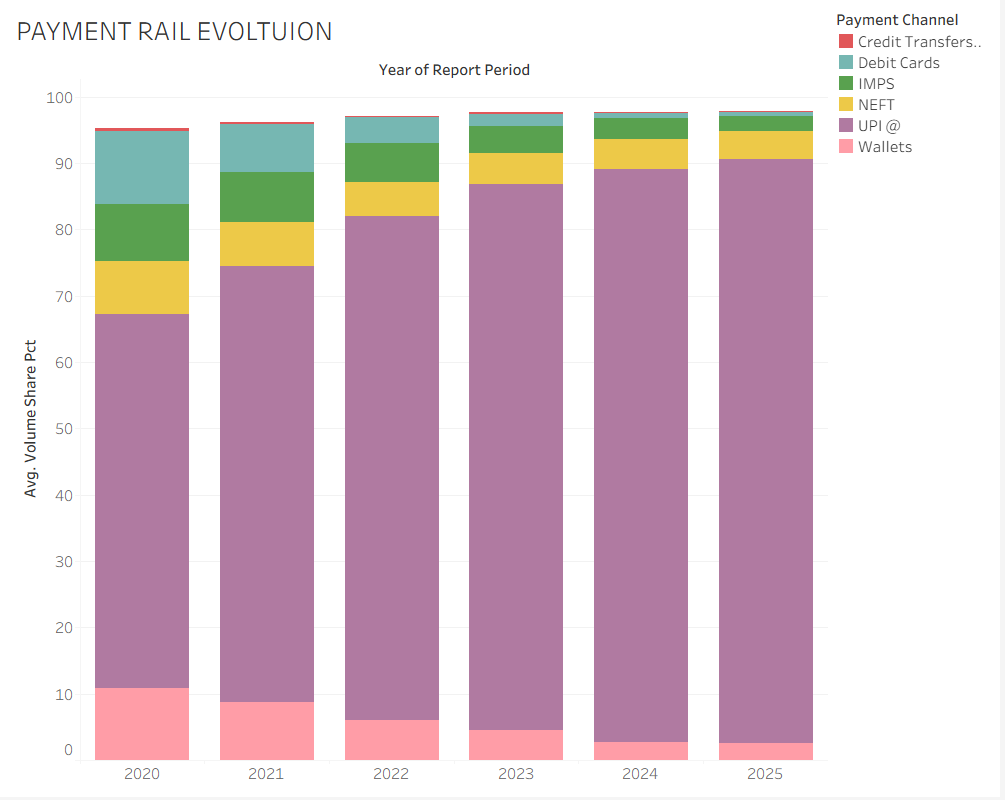

What the dashboard file says about the page in this screenshot:
{"tool":"tableau","page":{"name":"Dashboard 2","canvas":[1000,800],"ordinal":1},"visuals":[{"type":"worksheet","title":"PAYMENT RAIL EVOLTUION","mark":"Bar","rows":["VOLUME_SHARE_PCT"],"cols":["REPORT_PERIOD"],"box":[8,8,824,784]},{"type":"legend","title":"PAYMENT RAIL EVOLTUION","param":"[federated.0bd6xco0eevllb13ovbub09bxn5s].[none:PAYMENT_CHANNEL:nk]","box":[832,8,160,177]}]}

Visuals, with their boxes in screenshot pixels (x1, y1, x2, y2), scaled from the page's 1000x800 canvas onto the 1005x800 screenshot:
"PAYMENT RAIL EVOLTUION" worksheet (Bar marks): [8,8,836,792]
"PAYMENT RAIL EVOLTUION" legend: [836,8,997,185]
